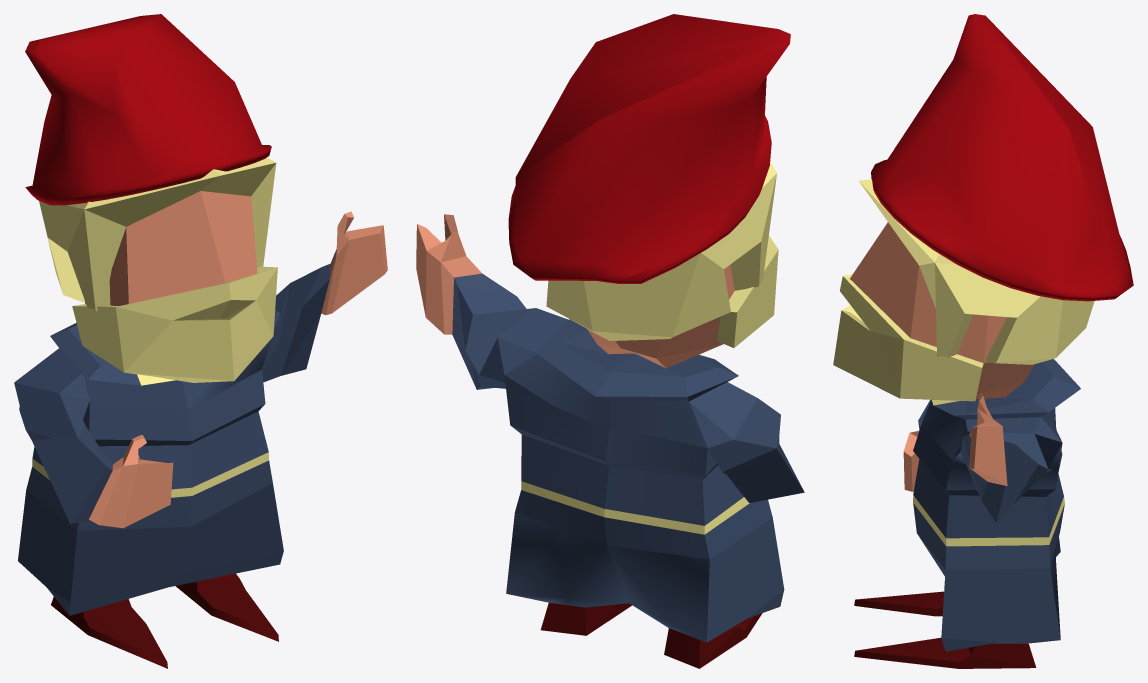
Rendered from gnome_2.fbx.
The picture shows the model from 3 angles, left to right: view 1: azimuth 30°, elevation 25°; view 2: azimuth 150°, elevation 25°; view 3: azimuth 270°, elevation 25°; orthographic projection. The views are drawn at different scales.
Visible parts, largest first — view 1: man-monk-old, hat; view 2: man-monk-old, hat; view 3: man-monk-old, hat.
Boxes of the visible parts, x1,y1,x2,y2 form: man-monk-old: [14, 157, 387, 668]; hat: [25, 14, 271, 205]; man-monk-old: [416, 162, 804, 668]; hat: [508, 14, 790, 283]; man-monk-old: [833, 179, 1094, 668]; hat: [871, 14, 1133, 301].
Size of the model in its own units: 70 by 111 by 53.69.
